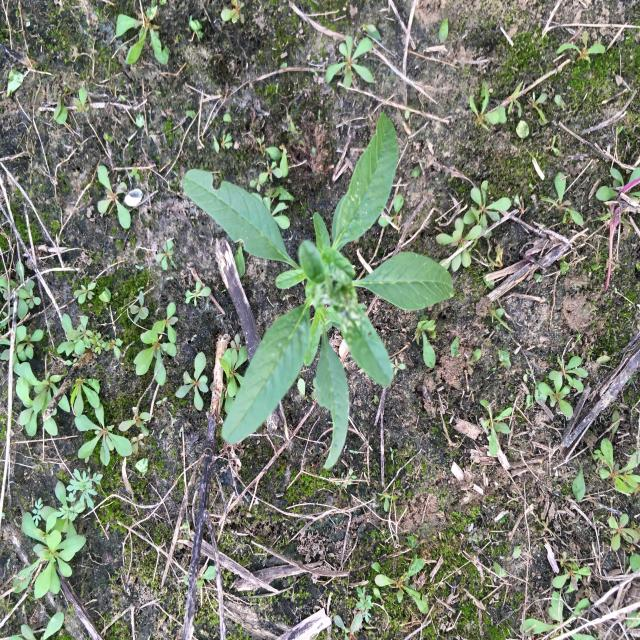Carpetweed: (0, 258, 135, 469), (10, 488, 88, 602), (432, 180, 515, 280), (591, 442, 639, 573), (131, 302, 182, 388), (535, 351, 591, 421), (320, 32, 376, 92), (96, 163, 132, 233), (176, 352, 211, 412)
Ragweed: (58, 466, 105, 520)
Waterhemp: (178, 110, 456, 472)
